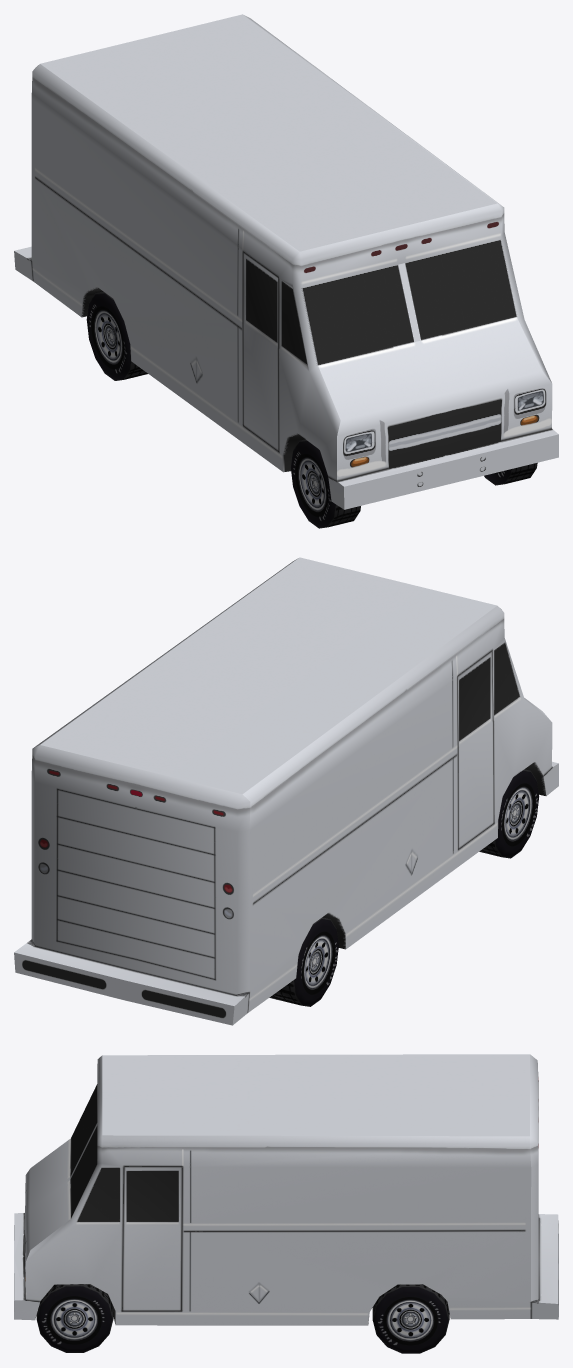
Rendered from Stepvan.fbx.
3 renders of one model, top to bottom at view 1: azimuth 30°, elevation 25°; view 2: azimuth 150°, elevation 25°; view 3: azimuth 270°, elevation 25°, orthographic. The views are drawn at different scales.
Parts seen in each view (by area): view 1: StepvanBody, WheelFR, WheelBR, WheelFL; view 2: StepvanBody, WheelBR, WheelFR; view 3: StepvanBody, WheelFL, WheelBL.
Boxes of the visible parts, x1=… form: StepvanBody: x1=14, y1=14, x2=558, y2=509; WheelFR: x1=290, y1=439, x2=360, y2=528; WheelBR: x1=86, y1=291, x2=147, y2=380; WheelFL: x1=484, y1=462, x2=537, y2=485; StepvanBody: x1=14, y1=557, x2=558, y2=1025; WheelBR: x1=269, y1=917, x2=338, y2=1006; WheelFR: x1=479, y1=769, x2=539, y2=858; StepvanBody: x1=14, y1=1054, x2=558, y2=1325; WheelFL: x1=36, y1=1284, x2=113, y2=1352; WheelBL: x1=372, y1=1284, x2=449, y2=1353.
Bounding box in the file's own units: 220 × 249 × 567.
